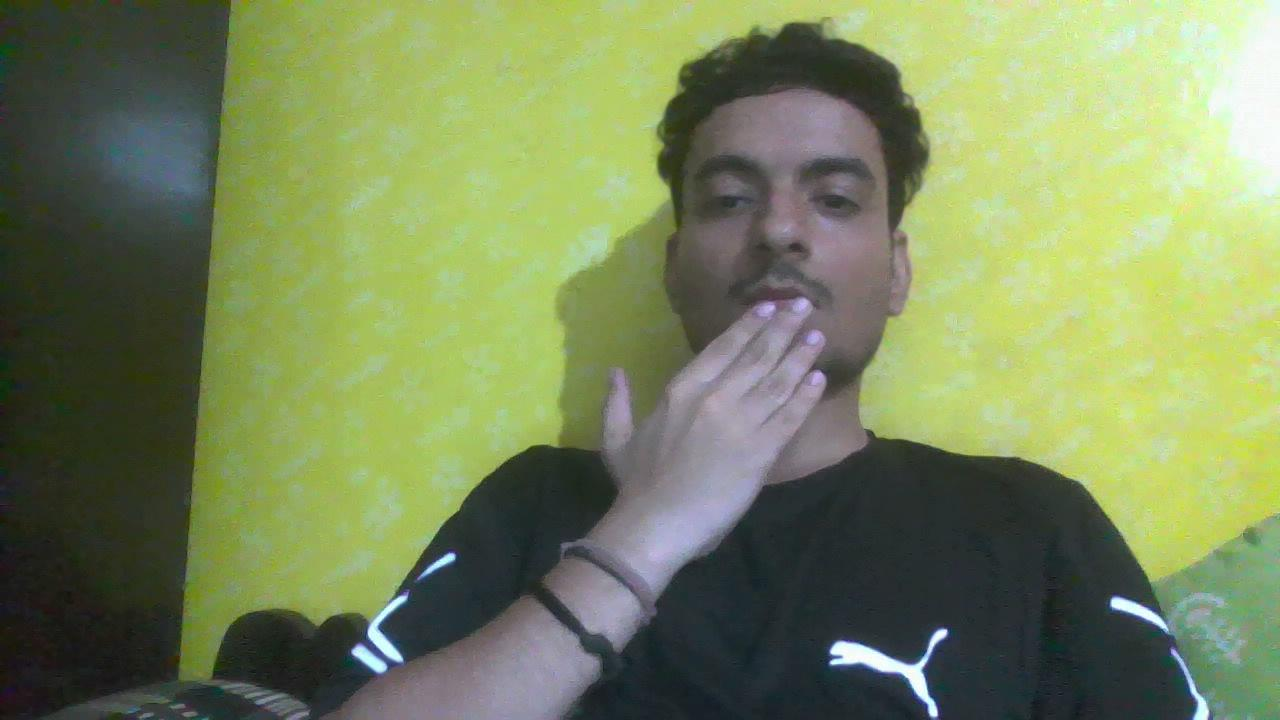Thank You: (591, 240, 881, 568)
